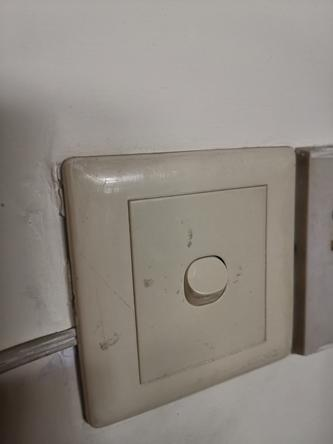switch: (180, 241, 232, 306)
